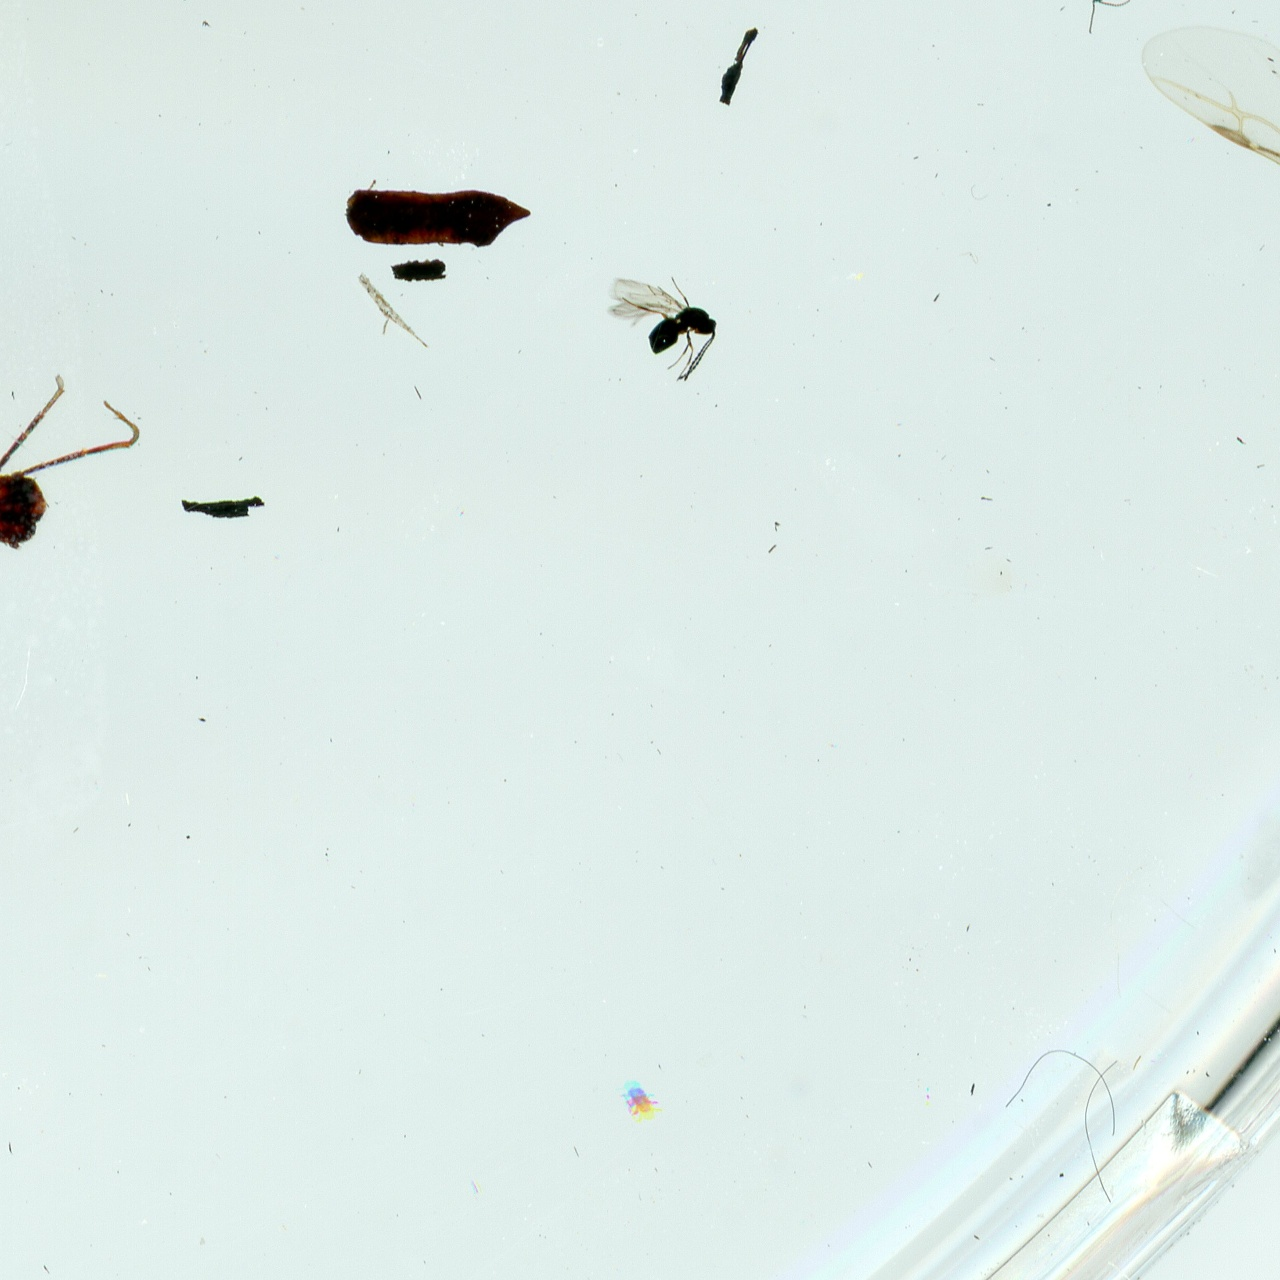arthropod: (0, 367, 147, 600), (601, 274, 721, 384), (1055, 0, 1132, 36)
